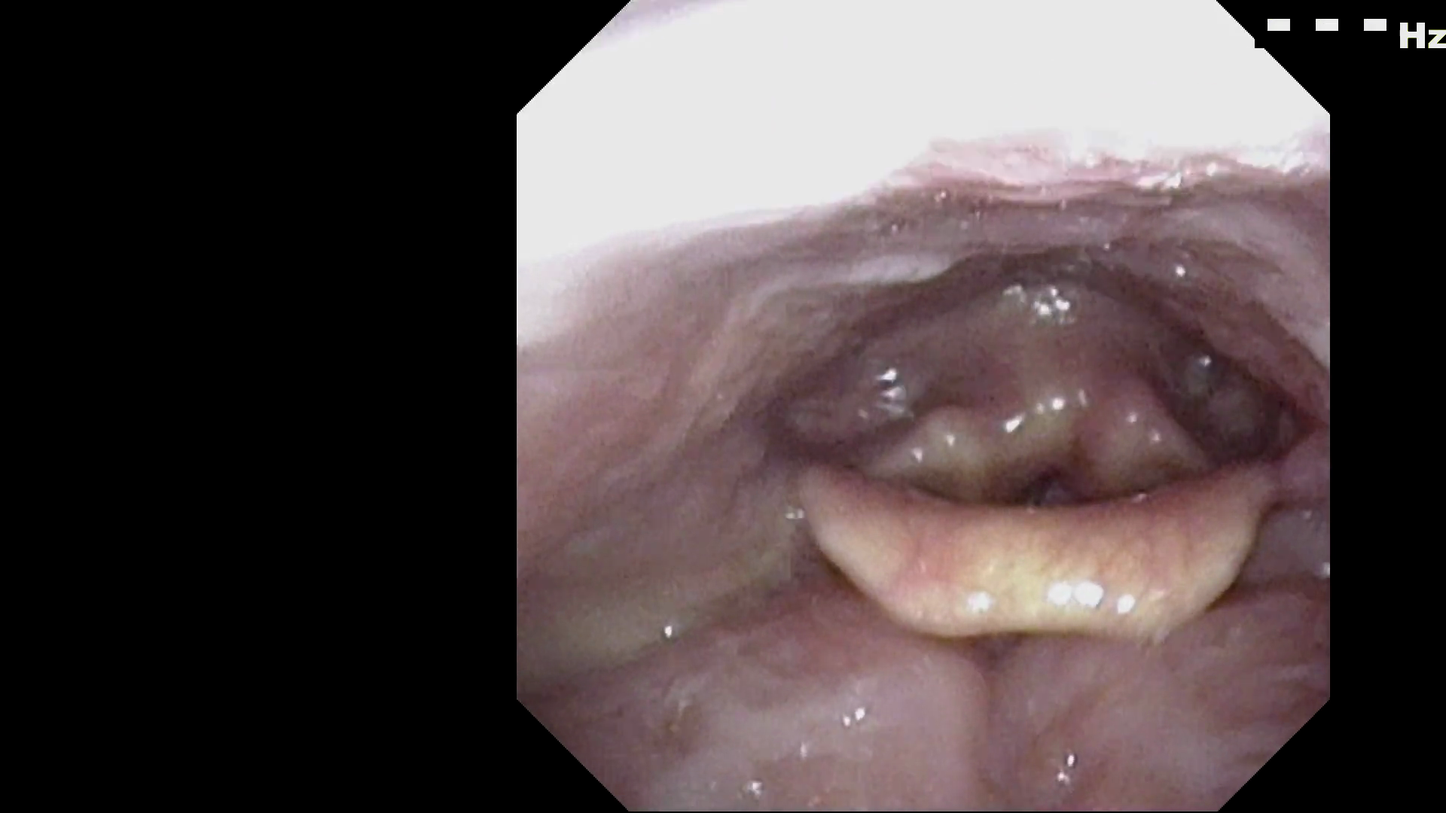epiglottis: (782, 437, 1307, 676)
trachea: (973, 398, 1119, 552)
